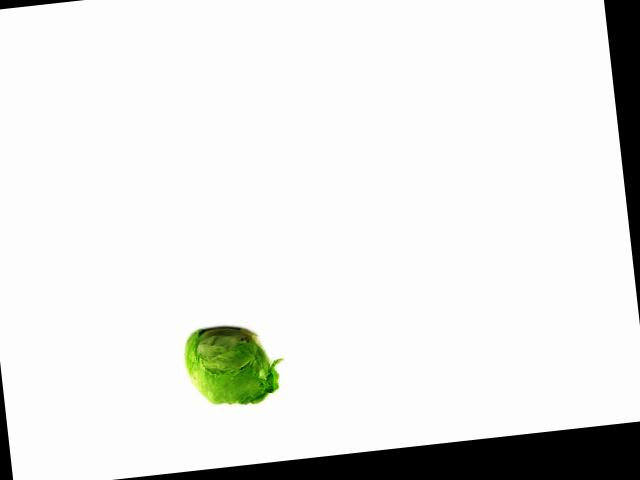lettuce: (178, 318, 278, 414)
